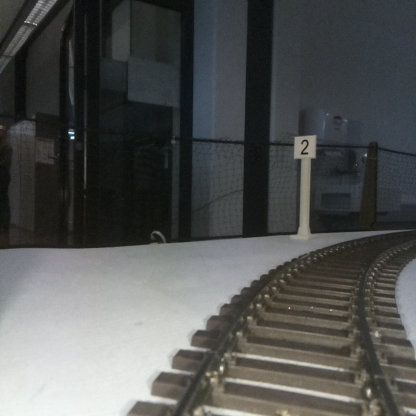white-info-2: (294, 134, 316, 237)
